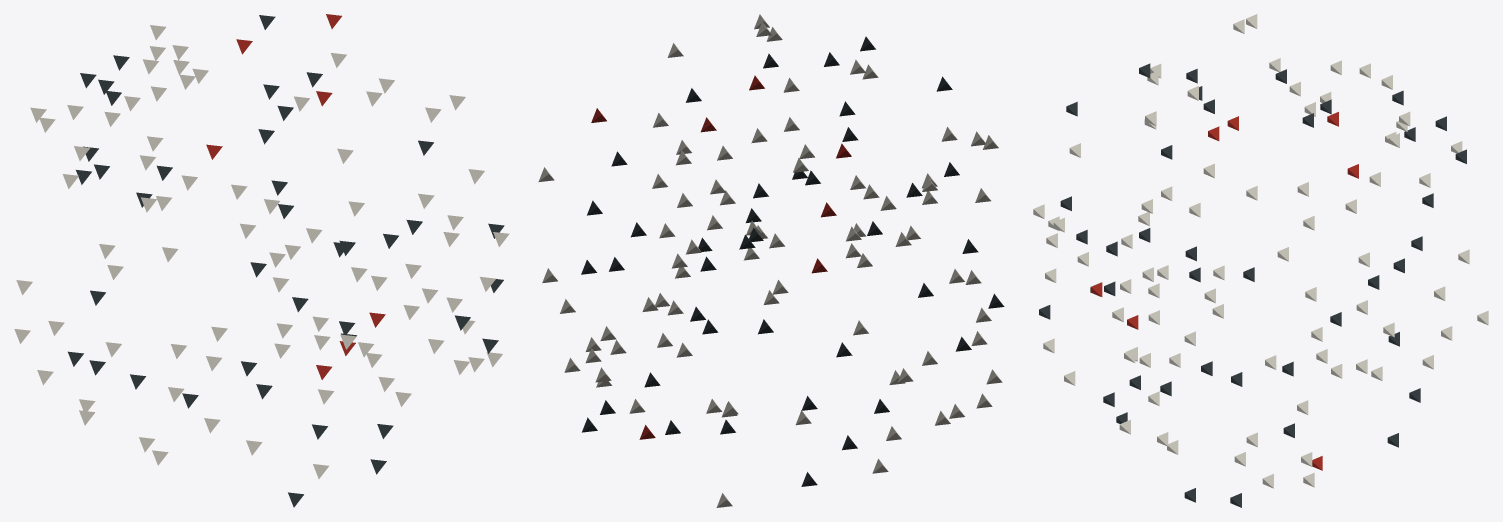
The picture shows the model from 3 angles, left to right: view 1: azimuth 30°, elevation 25°; view 2: azimuth 150°, elevation 25°; view 3: azimuth 270°, elevation 25°; orthographic projection. The views are drawn at different scales.
Visible parts, largest first — view 1: nanite-cloud-painted; view 2: nanite-cloud-painted; view 3: nanite-cloud-painted.
Part boxes in pixels (left/top/right/bottom): nanite-cloud-painted: left=14, top=14, right=509, bottom=507; nanite-cloud-painted: left=538, top=14, right=1004, bottom=507; nanite-cloud-painted: left=1033, top=14, right=1488, bottom=507.
Bounding box in the file's own units: 9.49 × 9.67 × 9.47.
